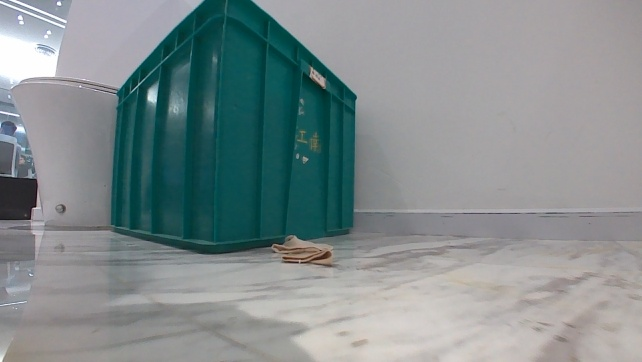socks: (268, 233, 335, 268)
toilet: (7, 71, 121, 230)
